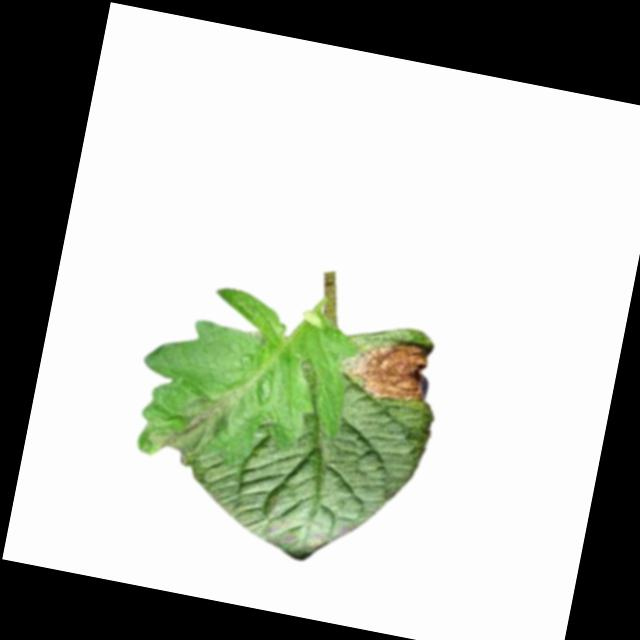Late_blight: (341, 329, 437, 408), (146, 384, 234, 466)
